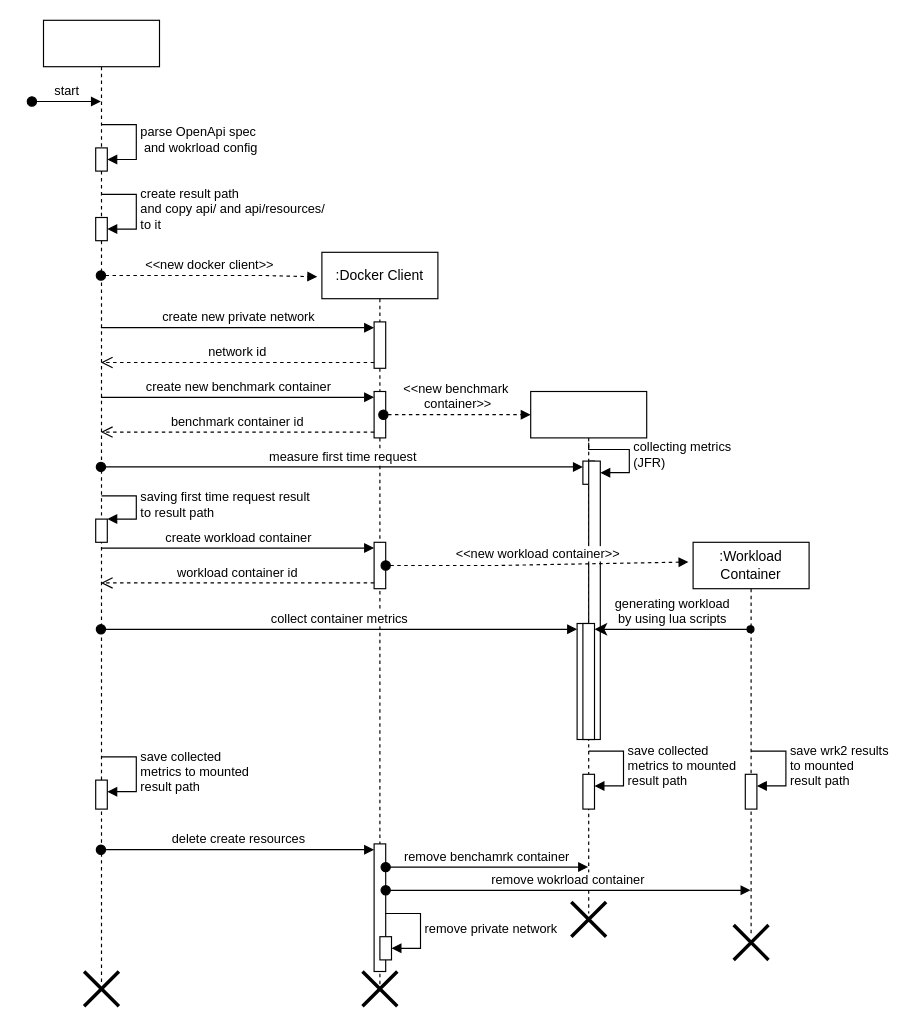
Image size: 909x1028. Some labels were removed from this diagram. The shapes that lost their labels are listed below. From the top down, each one's centre as x and y in pixels, then its label:
the point at 101,501: :Harness
the point at 588,651: :Benchmark Container
